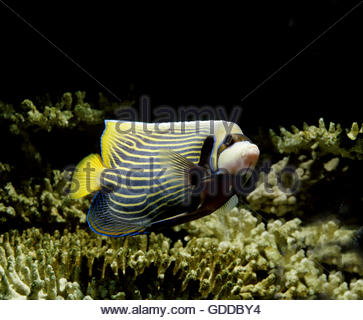Pomacanthus_imperator: (55, 109, 283, 247)
